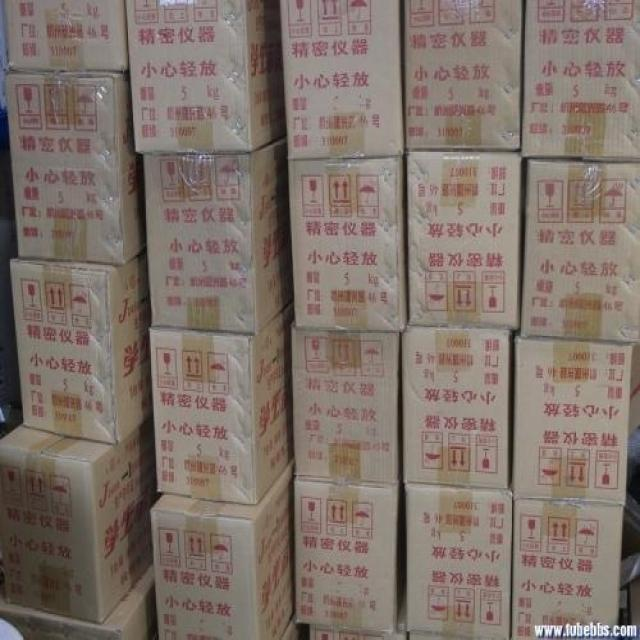box: (0, 418, 160, 624), (143, 138, 293, 334), (150, 303, 293, 507), (5, 71, 147, 266), (9, 253, 154, 443), (150, 458, 296, 640), (125, 0, 288, 153), (520, 156, 640, 345), (287, 155, 410, 332), (512, 337, 640, 505), (407, 148, 522, 330), (280, 0, 406, 159), (521, 0, 640, 161), (404, 0, 522, 151), (292, 327, 401, 488), (402, 326, 509, 489), (406, 485, 512, 640), (294, 479, 399, 634), (511, 495, 623, 640), (0, 562, 157, 640), (1, 0, 129, 72), (310, 597, 407, 640)
